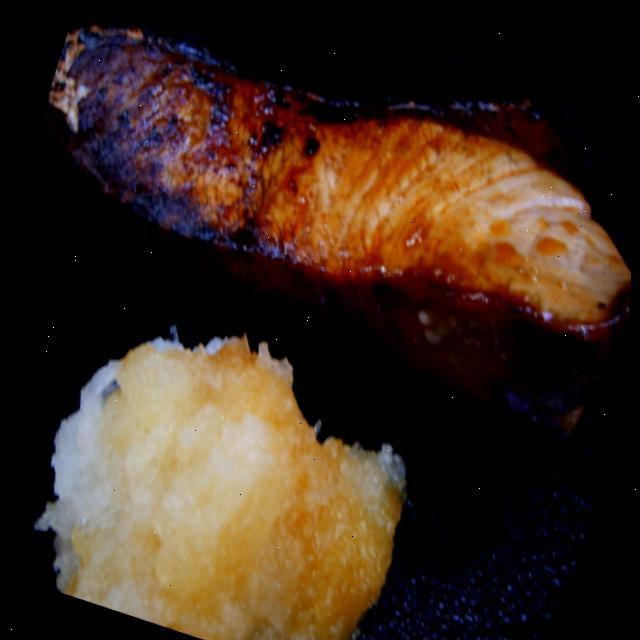熟制海鲜: (0, 0, 640, 479)
